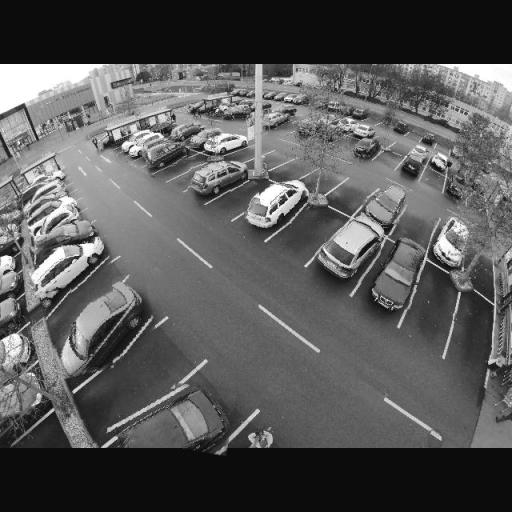busy: (44, 276, 158, 375), (108, 378, 234, 451), (362, 234, 424, 312), (314, 217, 382, 282), (27, 239, 112, 291), (242, 181, 310, 230), (428, 214, 471, 266), (30, 221, 96, 254), (362, 182, 408, 224), (188, 162, 244, 196), (25, 206, 79, 236), (22, 193, 69, 218), (146, 142, 187, 167), (202, 134, 246, 156), (124, 135, 164, 156), (168, 122, 203, 144), (190, 127, 222, 150), (350, 139, 381, 160), (217, 104, 250, 122), (262, 112, 292, 131), (400, 156, 422, 176), (428, 154, 449, 172), (348, 124, 374, 138), (390, 120, 408, 134), (420, 134, 436, 146)
free: (114, 352, 174, 394), (454, 312, 494, 357), (410, 292, 452, 326), (71, 278, 113, 304), (291, 218, 328, 244), (398, 216, 429, 238), (260, 149, 287, 171), (231, 188, 260, 208), (337, 185, 367, 204), (312, 170, 338, 186), (278, 164, 302, 178), (420, 173, 442, 187), (172, 161, 194, 173), (233, 150, 255, 162), (377, 155, 397, 167), (390, 143, 410, 153)
